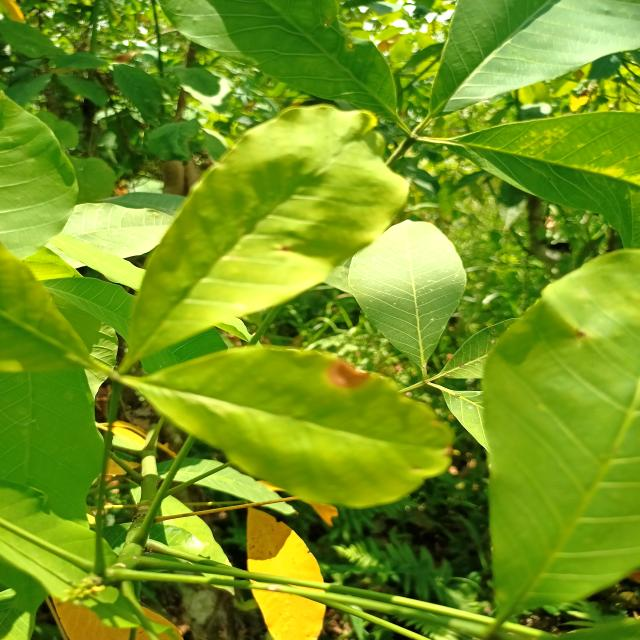Leaf-Blight: (327, 358, 371, 388)
